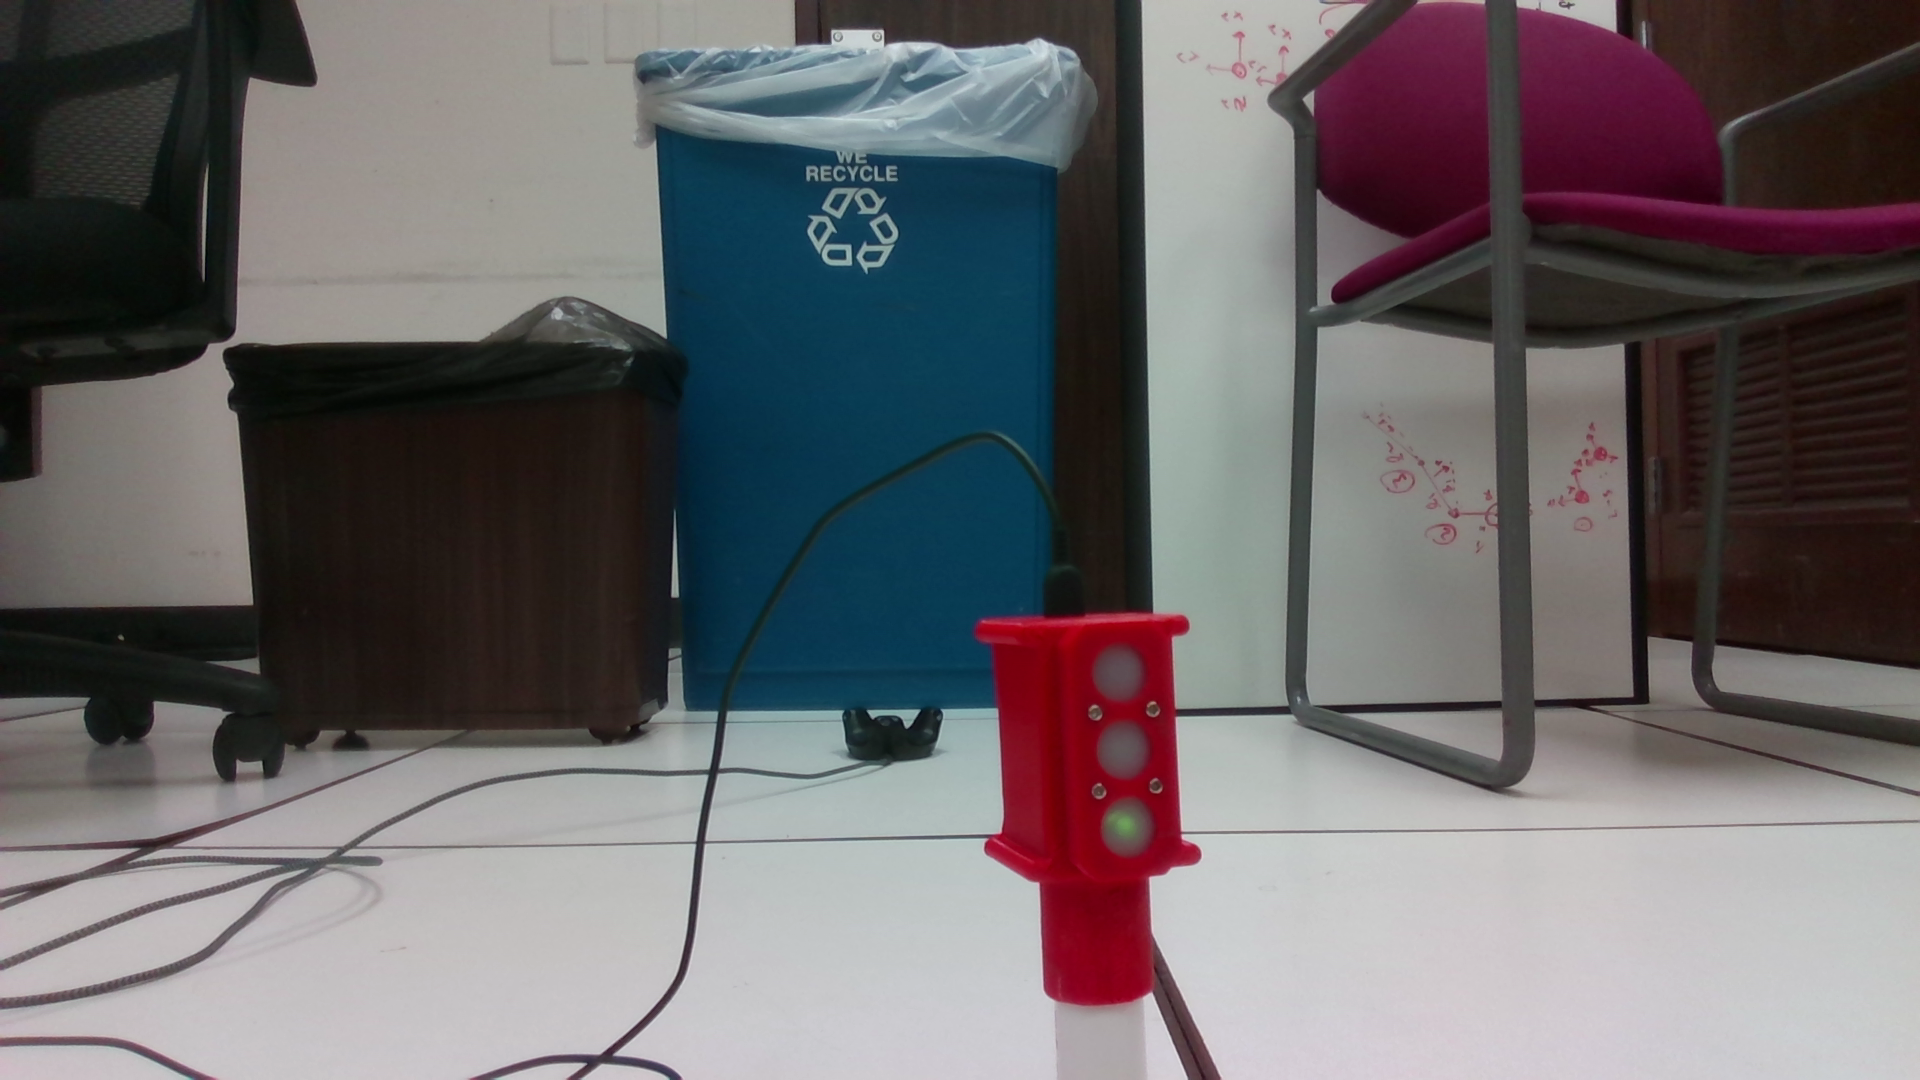stoplight: (976, 617, 1201, 1000)
